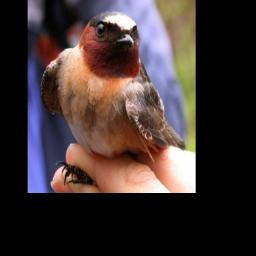Swallow: (42, 10, 186, 186)
